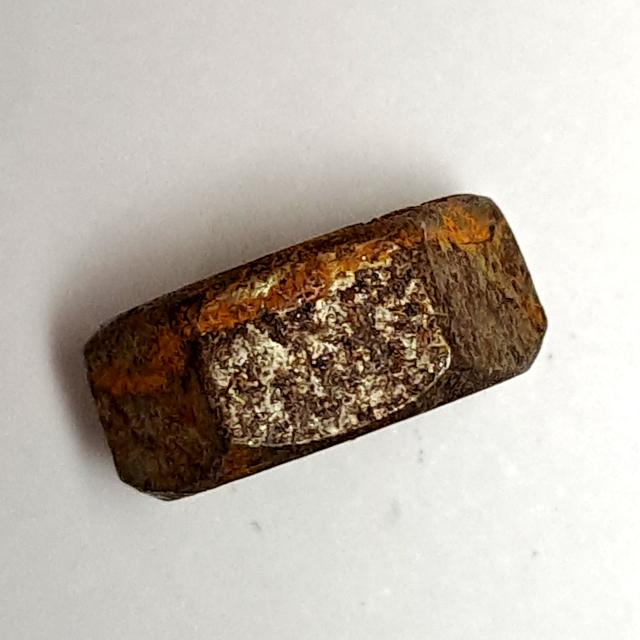Side_Rust: (70, 177, 564, 514)
